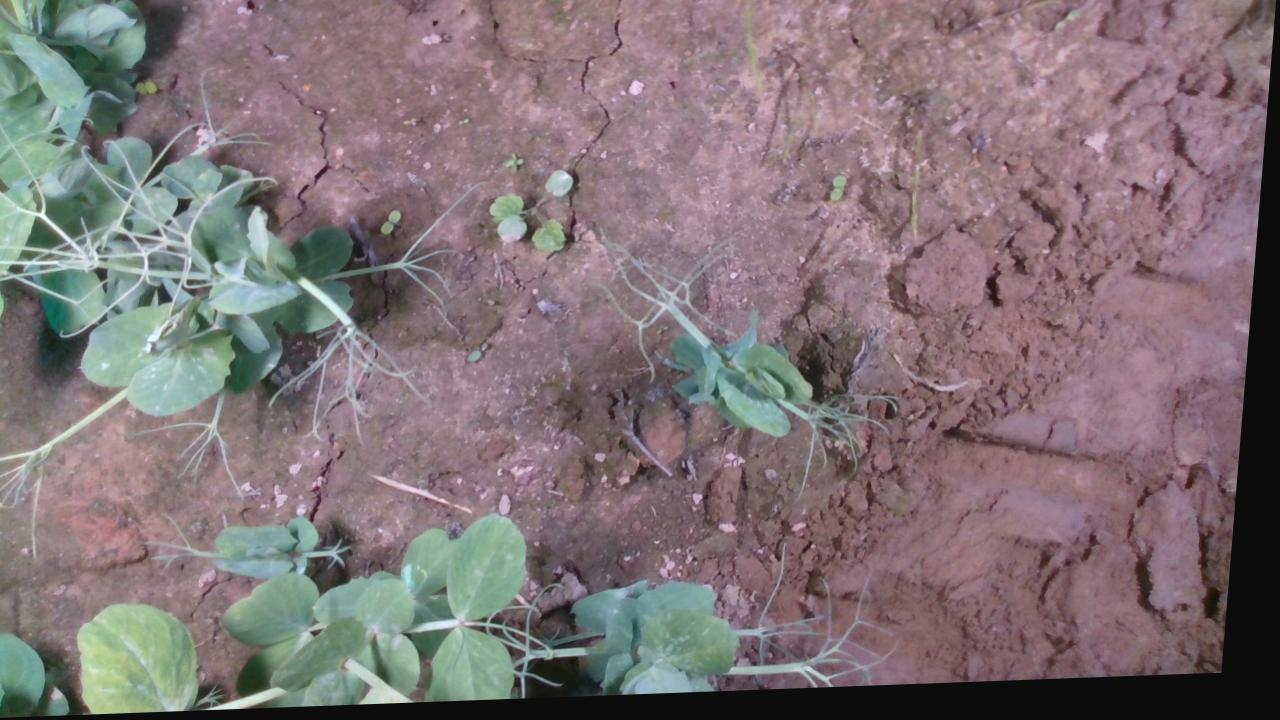weed: (489, 172, 577, 257), (827, 179, 856, 208), (382, 208, 405, 238), (501, 154, 528, 176)
